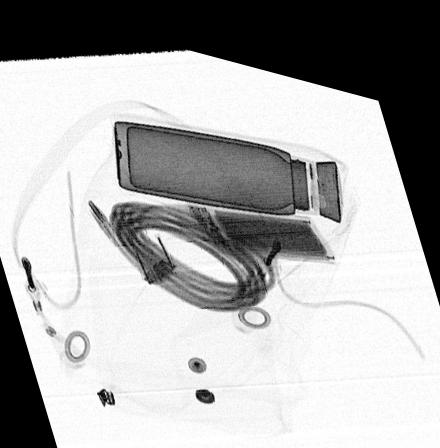Powerbank: (187, 193, 336, 245)
